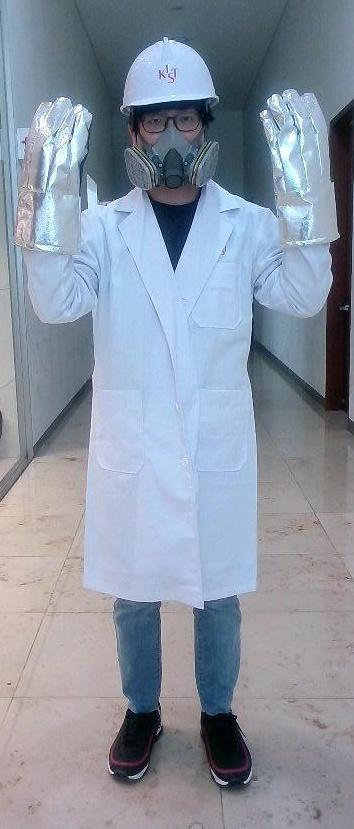lab_coat: (71, 202, 270, 599)
